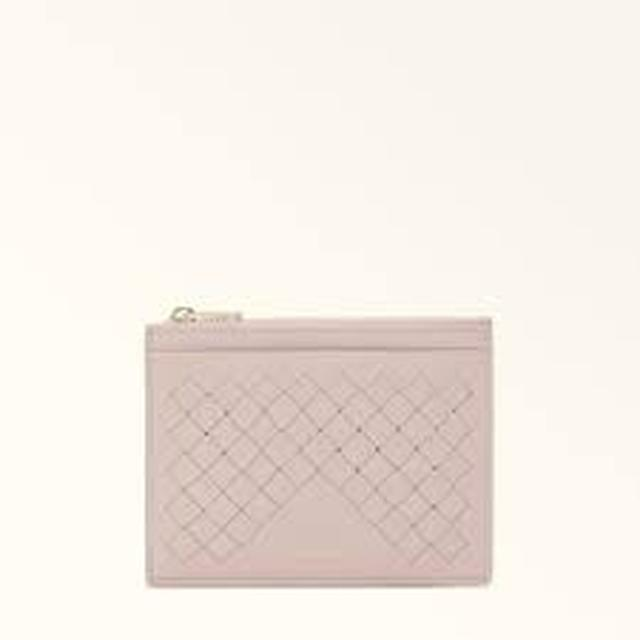wallet: (143, 280, 536, 612)
